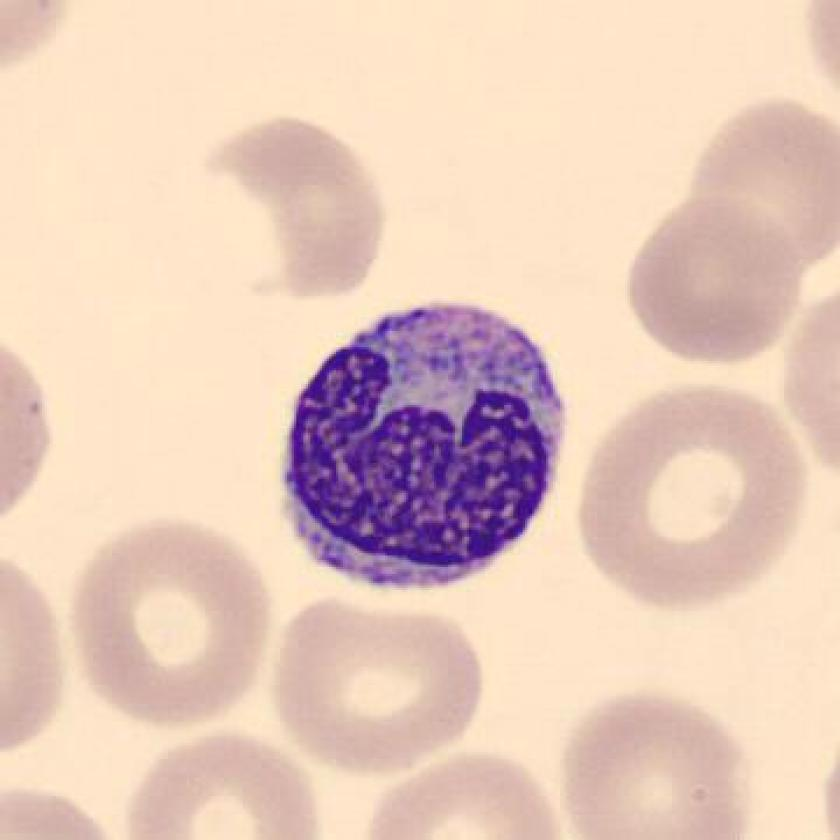monocyte: (258, 281, 584, 612)
